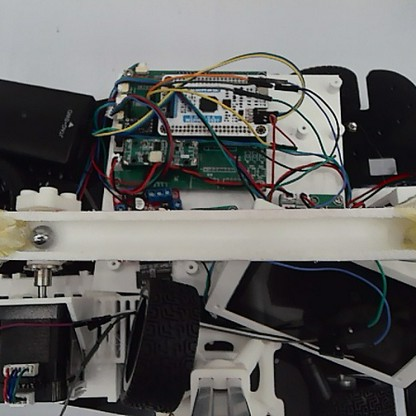ironball: (26, 221, 55, 251)
